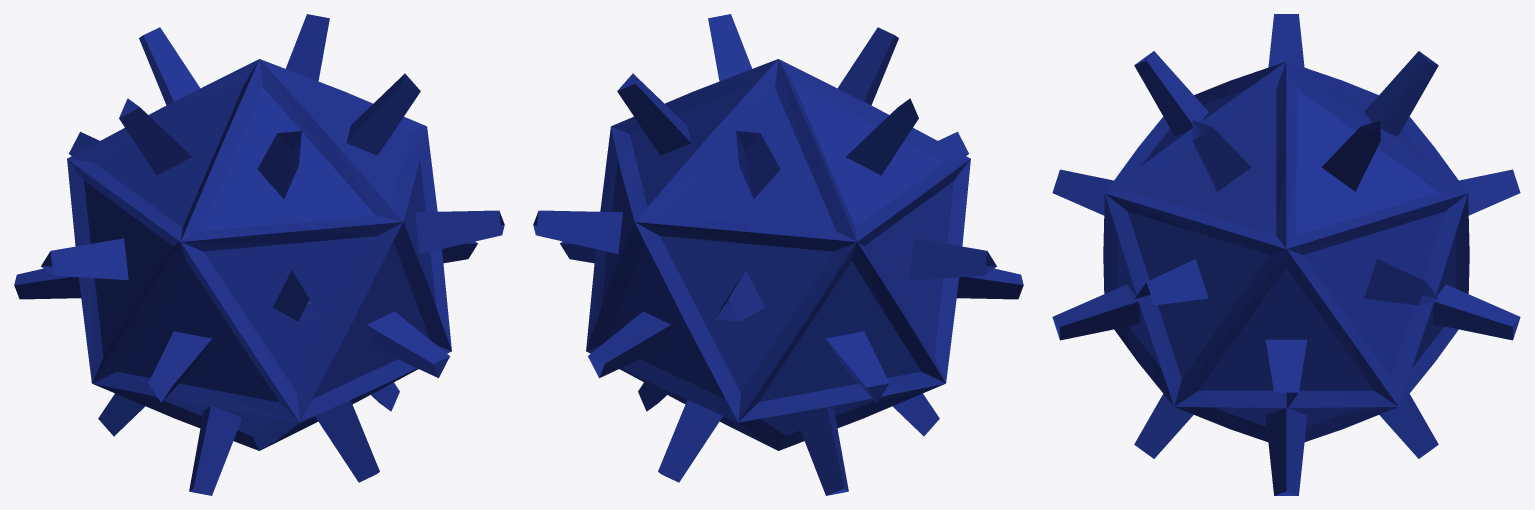
The model's file is testworld_radiolaria.FBX.
The picture shows the model from 3 angles, left to right: view 1: azimuth 30°, elevation 25°; view 2: azimuth 150°, elevation 25°; view 3: azimuth 270°, elevation 25°; orthographic projection.
Visible parts, largest first — view 1: radiolariaworld; view 2: radiolariaworld; view 3: radiolariaworld.
Boxes of the visible parts, x1,y1,x2,y2 form: radiolariaworld: (14,14,504,495); radiolariaworld: (533,14,1023,495); radiolariaworld: (1052,14,1520,495).
Bounding box in the file's own units: 2381 × 2100 × 2302.
